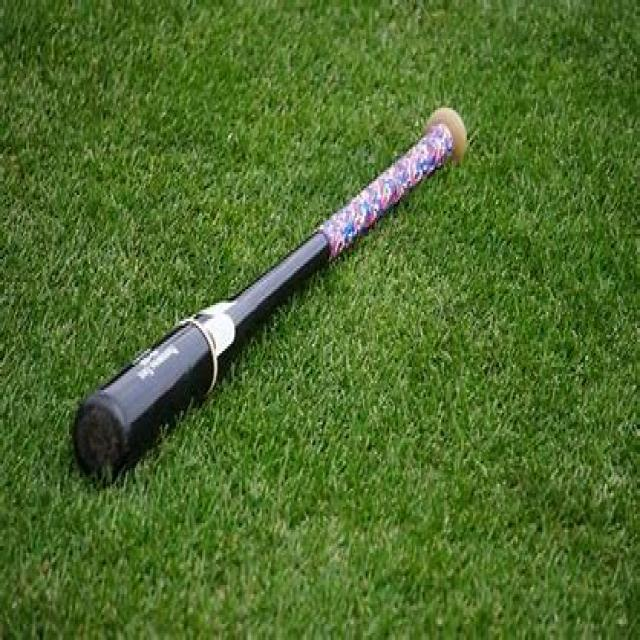bat: (68, 105, 472, 495)
